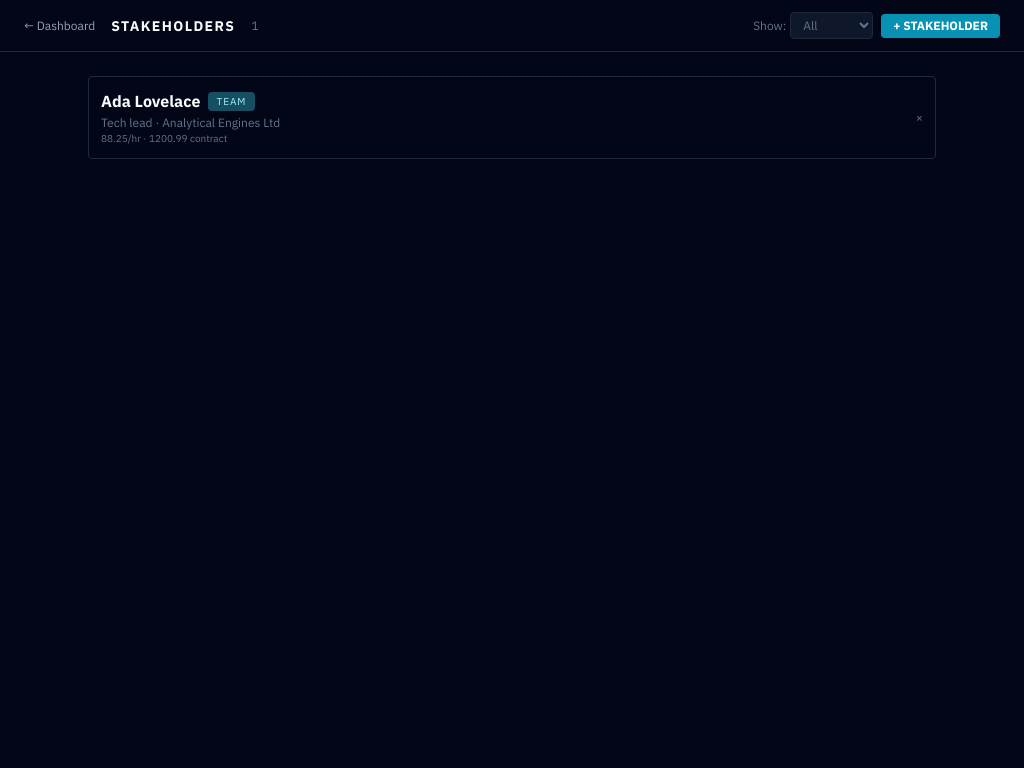
Scenario: StakeholderManager close guard › closes without prompting when there are no unsaved edits
This screenshot has width=1024, height=768.
Step 1. Click the button that starts with "Ada Lovelace" → (151, 101), box [101,89,904,146]
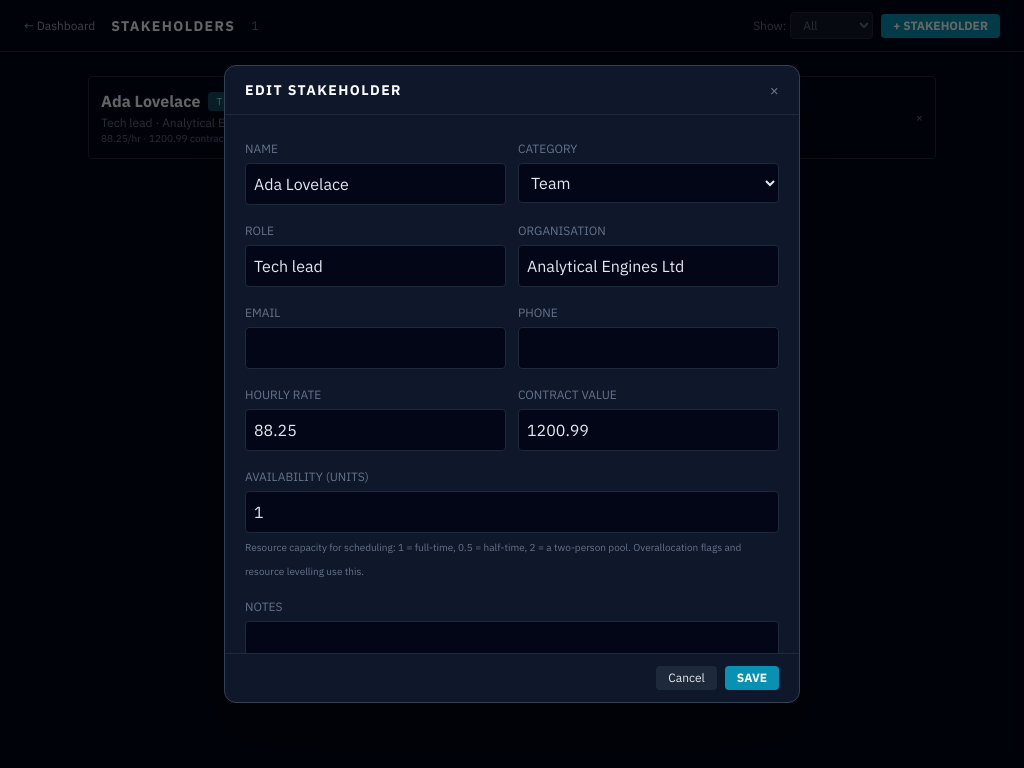
Check: the field labelled "Name" is shown, box [245,163,506,205]
Step 2. Click the button "Cancel" → (687, 678), box [656,666,717,690]
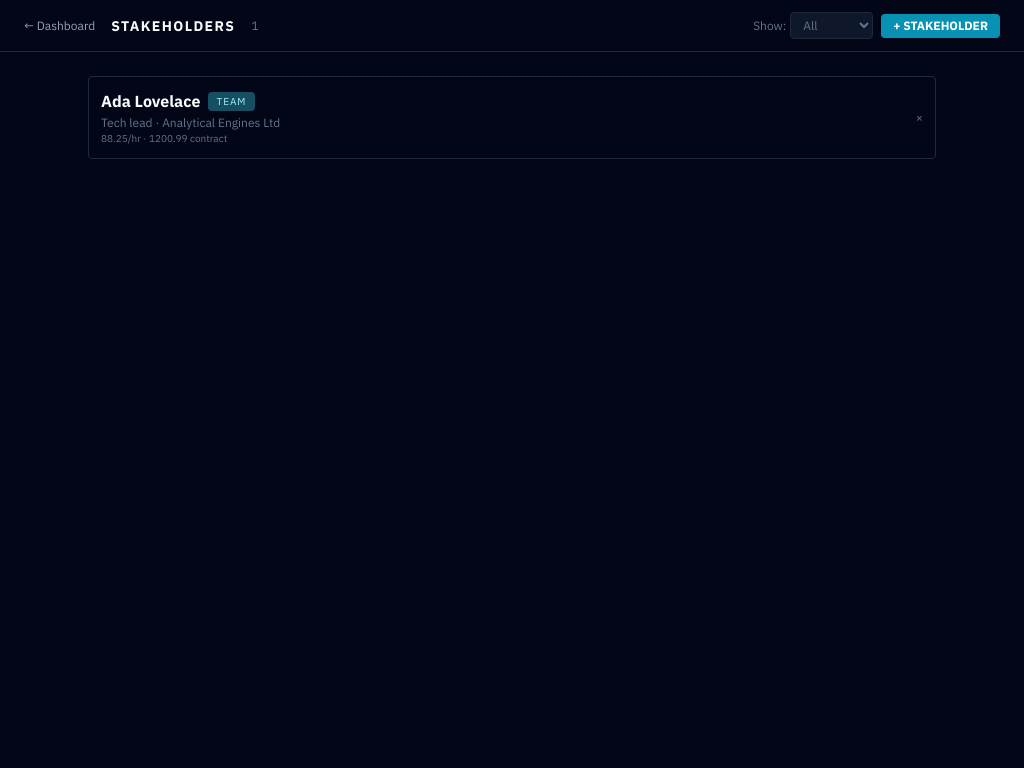
Check: the field is gone
